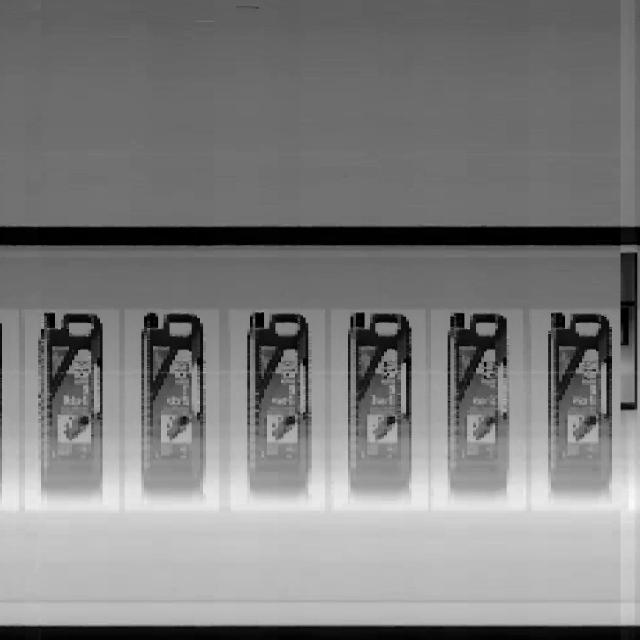motor_oil: (544, 306, 615, 505), (342, 307, 414, 503), (138, 309, 209, 493), (38, 312, 106, 504), (446, 307, 514, 498), (245, 312, 311, 500)
